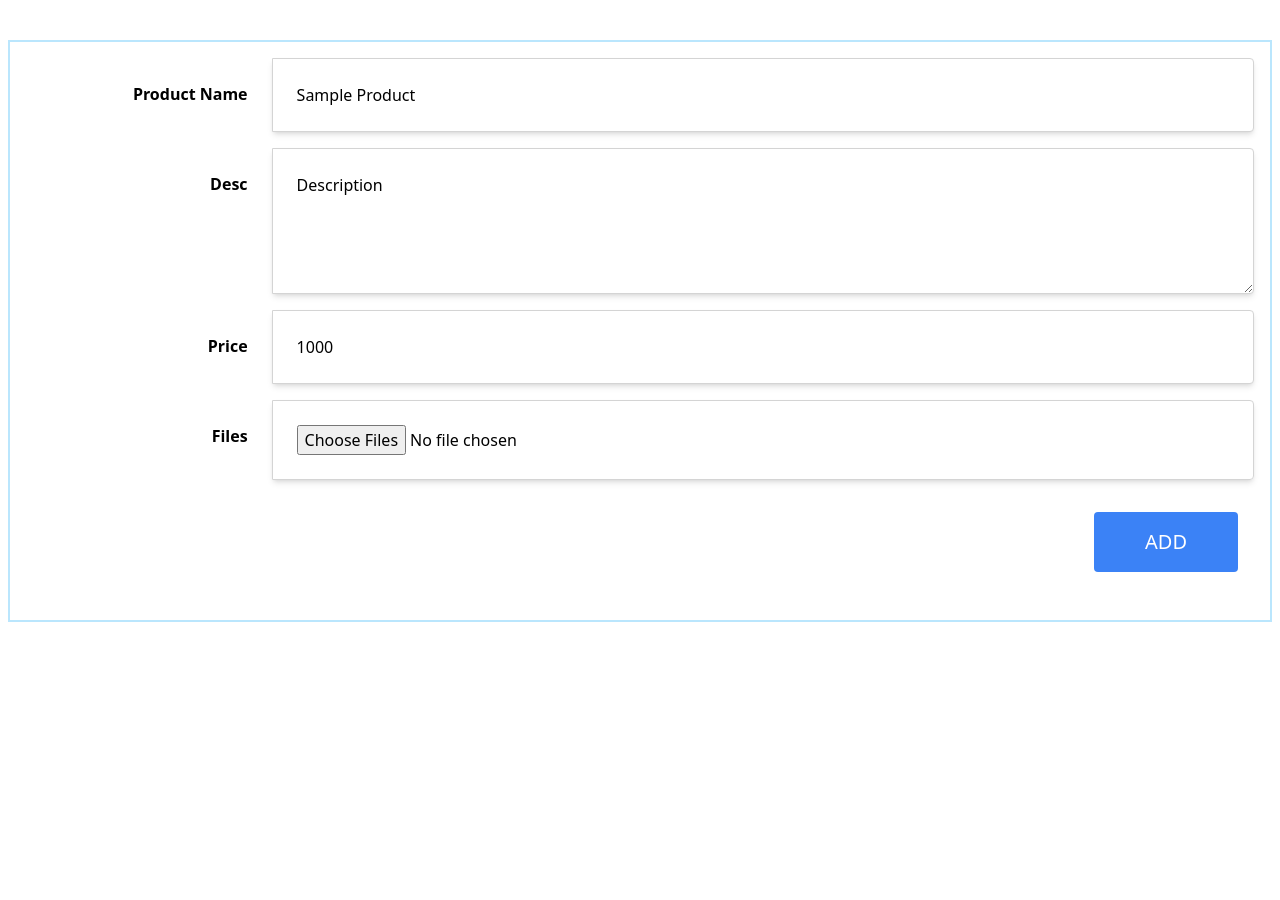
Test: submits product data and selected files together
The width and height of the screenshot is (1280, 900).
Earlier steps of the test are not shown.
Step 1. Click the button "ADD" → {"x": 1166, "y": 542}, box top-left (1094, 512), bottom-right (1238, 572)
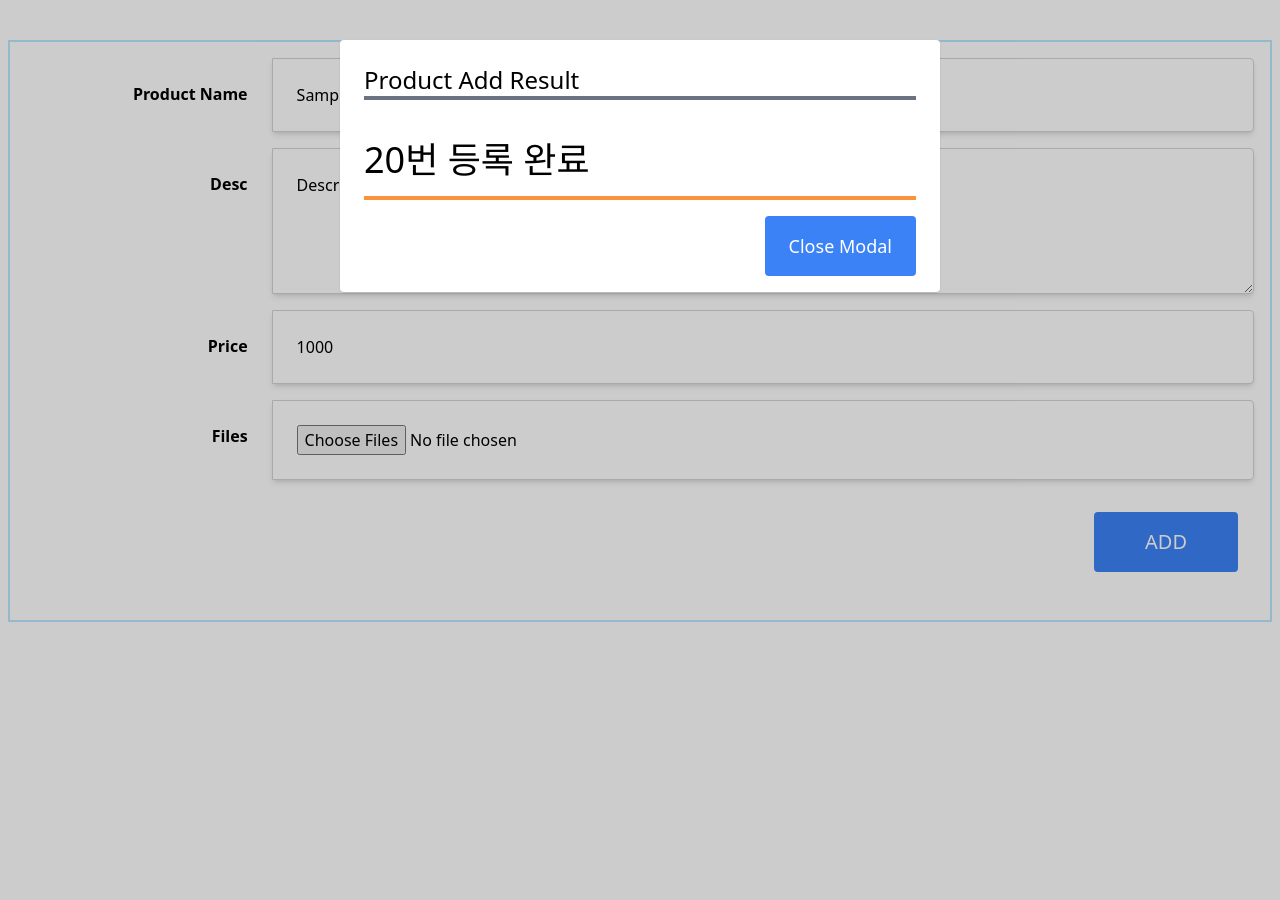
Check: the dialog shows "20번 등록 완료", box top-left (364, 135), bottom-right (590, 184)
